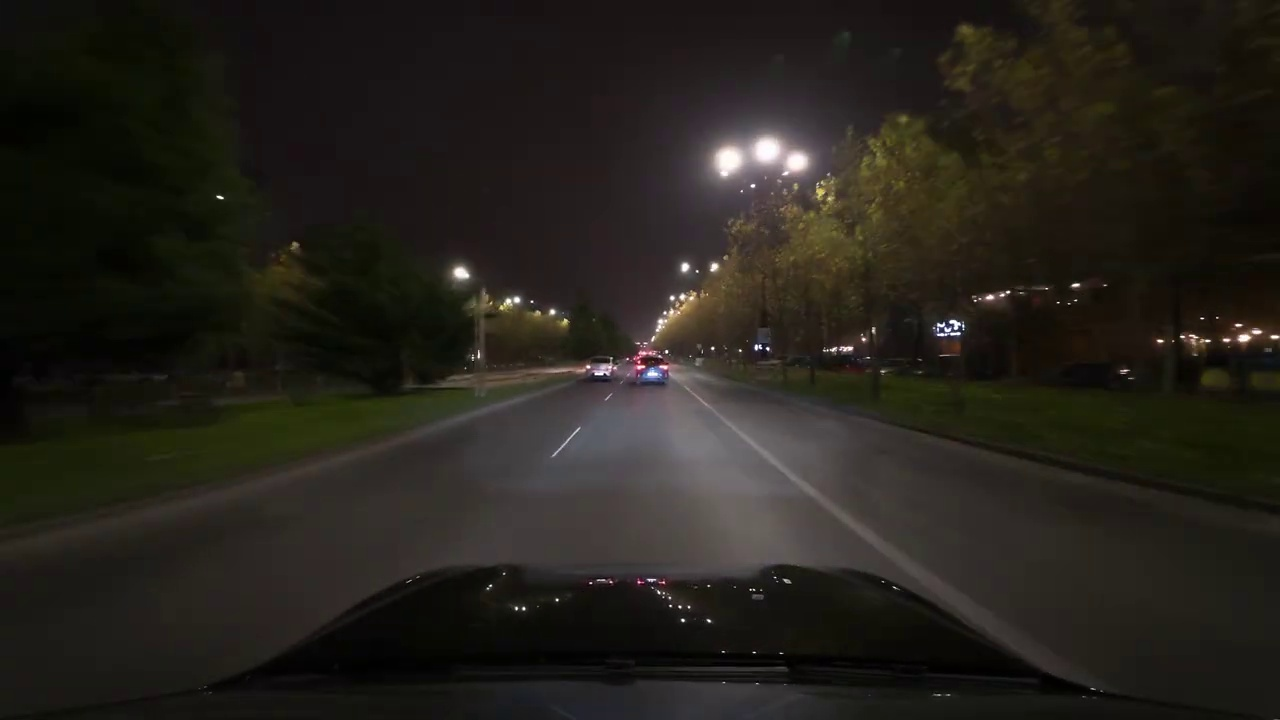acesa: (751, 136, 804, 171), (712, 144, 744, 176), (753, 136, 782, 169), (448, 261, 475, 286)
